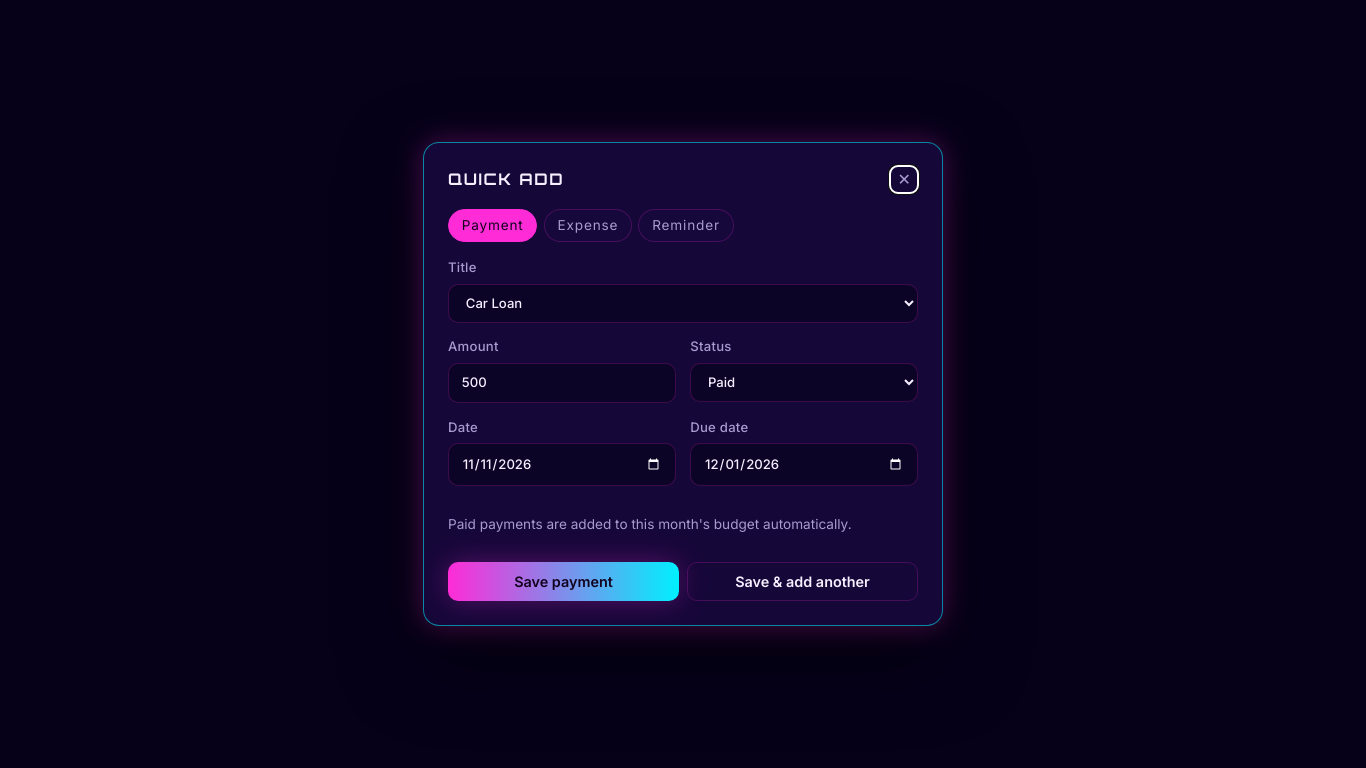
QuickAddDialog › warns when an expense is also a payment title (it would count twice)
Click the button "Expense" at (588, 226), box [544, 209, 632, 242]
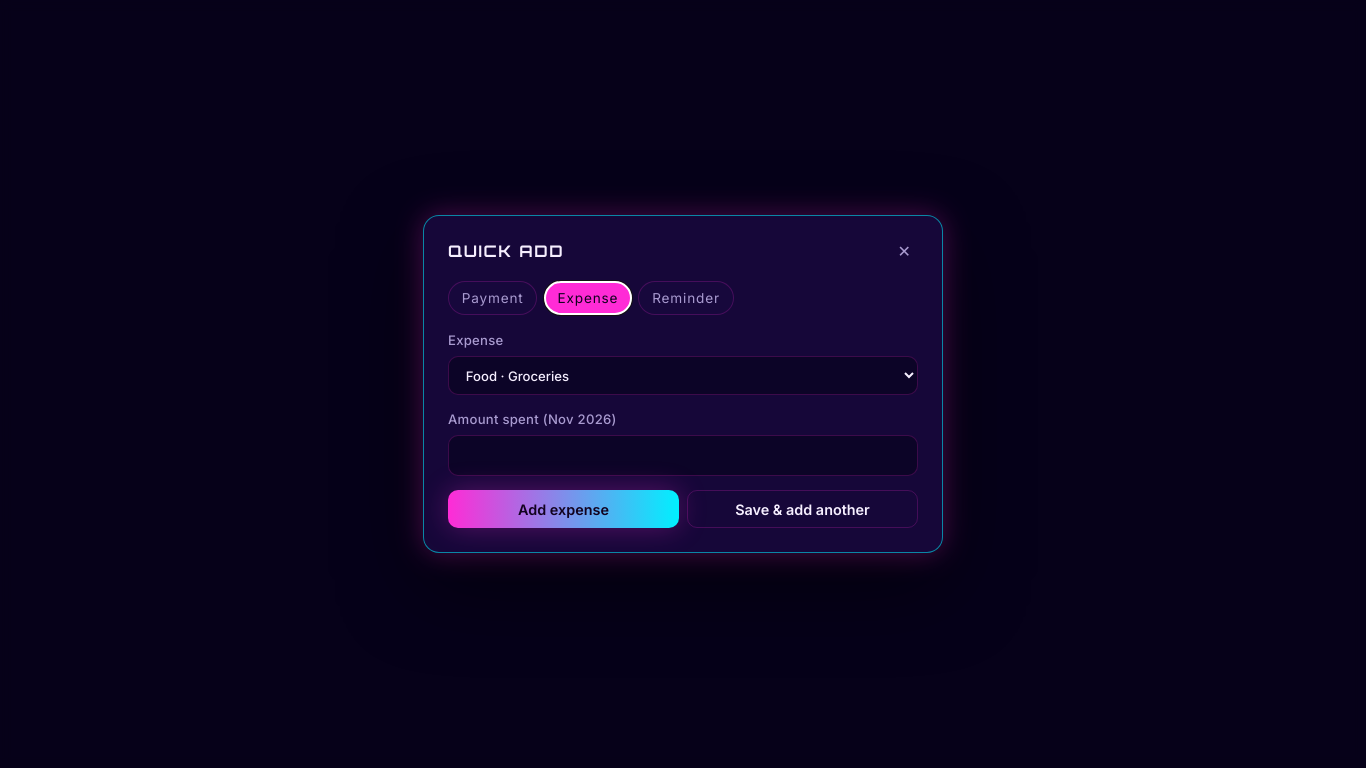
Select "+ New item…" in the dropdown labelled "Expense" at (683, 376), box [448, 356, 918, 395]
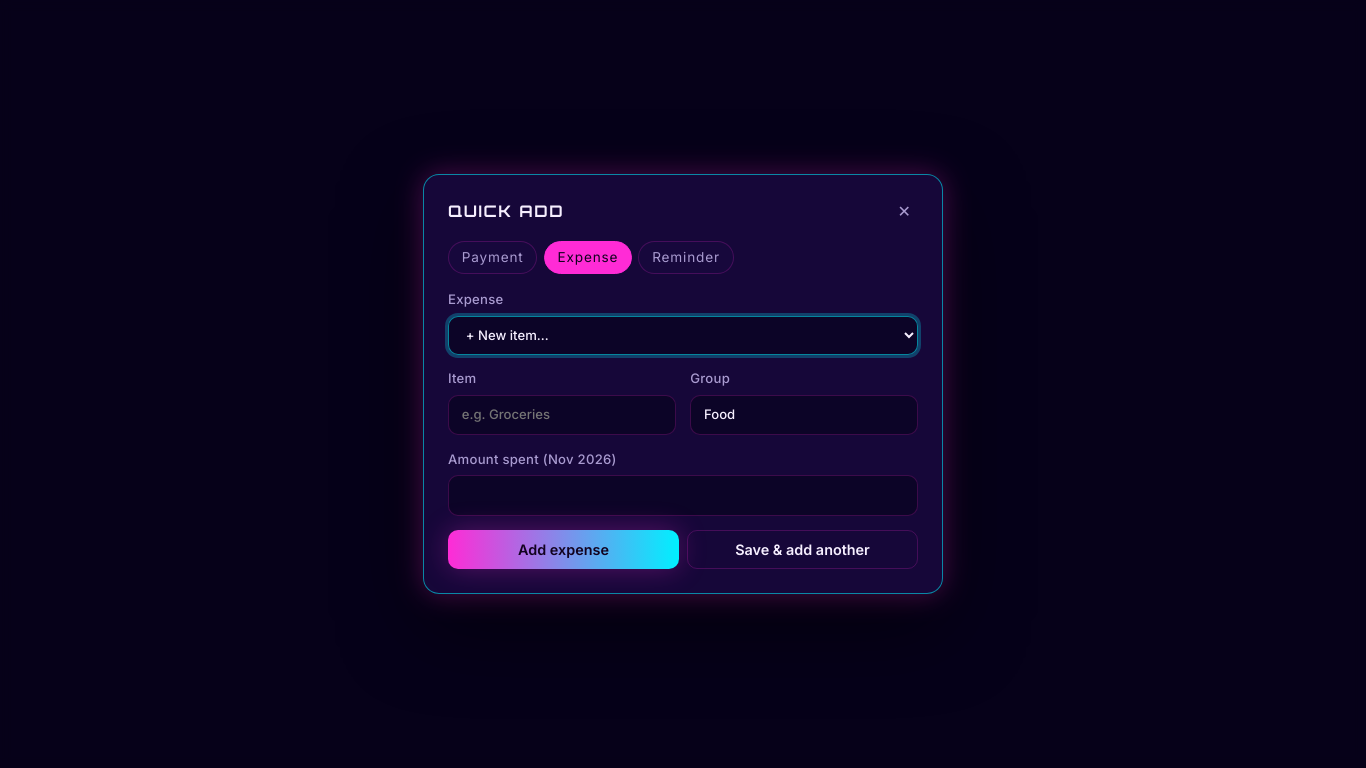
Type "car loan" into the field labelled "Item" at (562, 415), box [448, 395, 676, 435]
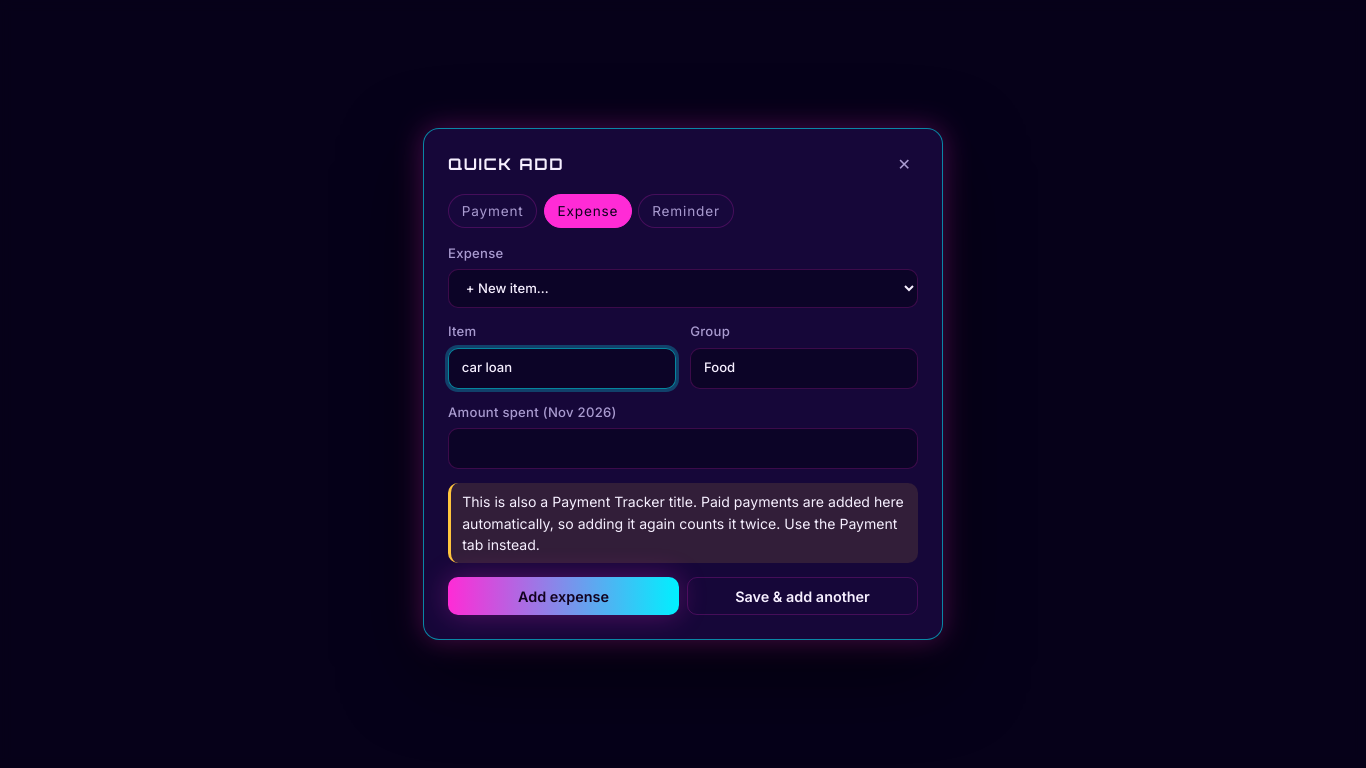
Check: the text "counts it twice" is shown, box [462, 494, 904, 553]
